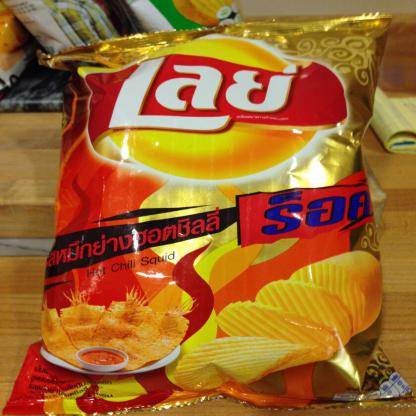potatochip: (0, 5, 416, 416)
